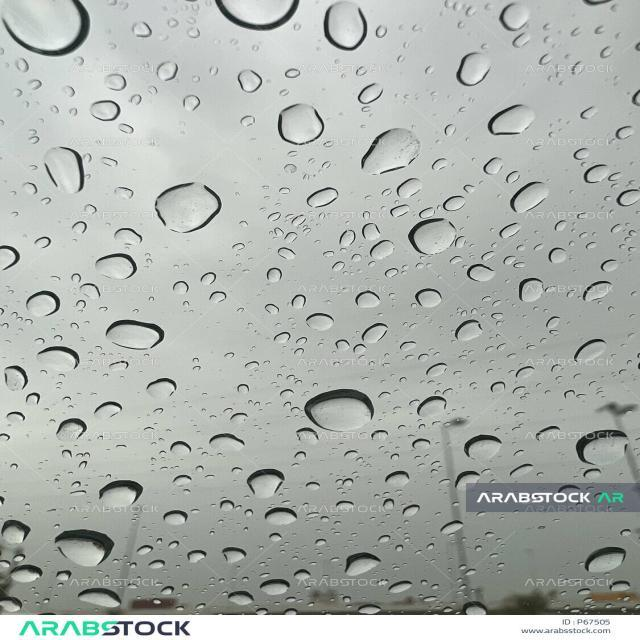raindrop: (0, 0, 121, 68), (139, 178, 238, 248), (288, 380, 386, 446), (356, 119, 442, 182), (34, 134, 104, 203), (394, 211, 468, 273), (100, 308, 184, 362), (42, 525, 126, 578), (207, 0, 302, 41), (79, 470, 157, 518), (269, 96, 333, 154), (569, 424, 636, 477), (478, 100, 554, 146), (502, 174, 558, 222), (239, 463, 296, 509), (12, 284, 68, 330), (26, 340, 88, 380), (450, 44, 500, 93), (456, 426, 510, 468), (296, 306, 346, 336)
